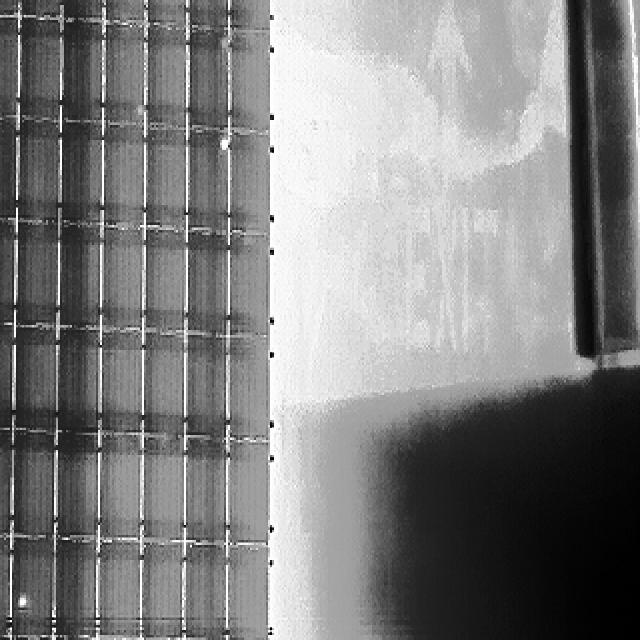Hotspots: (17, 590, 33, 610), (217, 131, 230, 154), (138, 104, 146, 118)
PV-modules: (21, 18, 73, 120), (223, 434, 270, 542), (13, 433, 58, 540), (96, 228, 142, 332), (95, 335, 140, 441), (225, 26, 271, 129), (54, 434, 98, 541), (94, 433, 138, 540), (56, 326, 100, 432), (225, 234, 269, 340), (15, 327, 59, 432), (54, 535, 98, 640), (139, 439, 183, 544), (224, 341, 268, 446), (17, 224, 61, 328), (12, 537, 56, 640), (142, 26, 186, 129), (140, 127, 184, 230), (185, 440, 228, 545), (59, 122, 102, 226), (104, 127, 147, 231), (231, 134, 274, 237), (141, 231, 184, 334), (98, 538, 142, 638), (184, 540, 228, 640), (19, 123, 62, 225), (57, 226, 99, 330), (188, 233, 229, 339), (59, 23, 102, 124), (187, 341, 229, 444), (188, 27, 230, 130), (224, 542, 268, 640), (140, 332, 182, 434), (138, 541, 182, 637), (105, 24, 146, 126), (188, 130, 228, 232), (0, 120, 18, 222), (0, 13, 16, 115), (0, 223, 16, 325), (230, 0, 274, 31), (16, 0, 83, 19), (186, 0, 227, 29), (0, 327, 10, 435), (142, 0, 185, 25), (0, 532, 10, 638), (104, 0, 146, 22), (58, 0, 104, 20), (0, 427, 6, 535), (0, 0, 18, 15)
